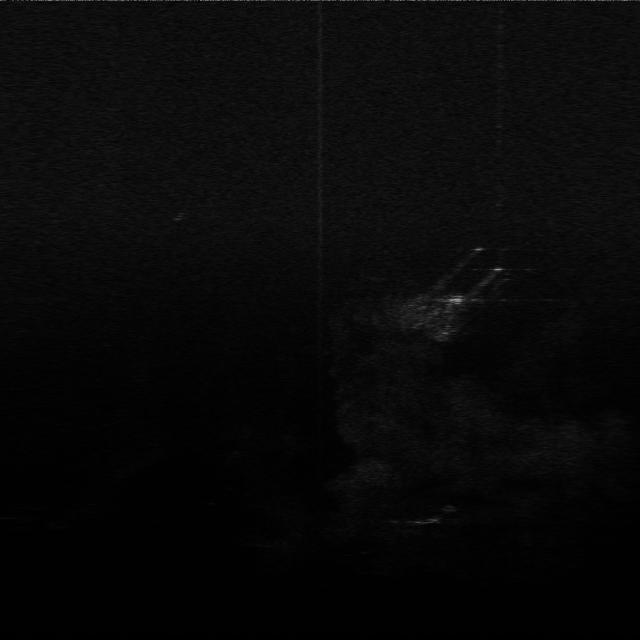rov: (438, 292, 471, 308)
